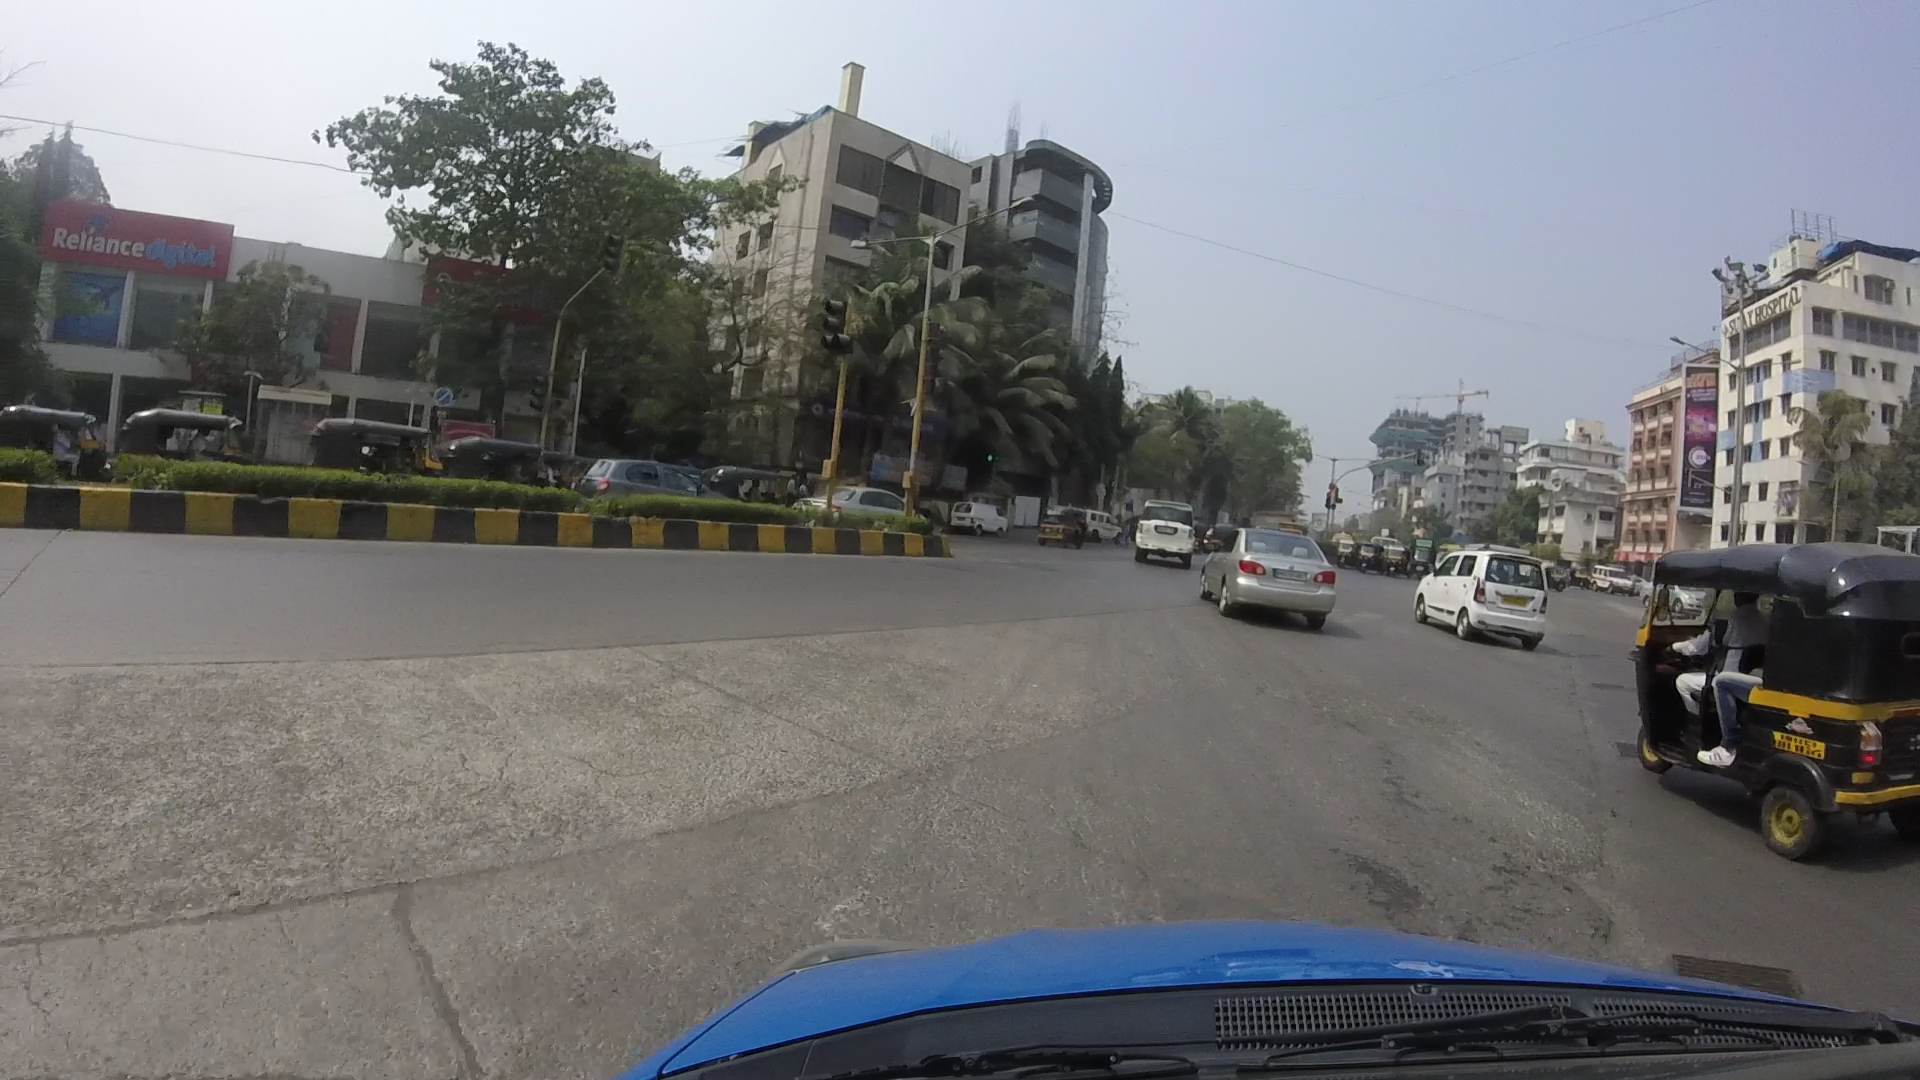car: (1400, 535, 1563, 655), (1199, 517, 1338, 632), (798, 465, 930, 531), (578, 448, 716, 510), (1122, 489, 1211, 572), (949, 496, 1014, 541)
rickshaw: (1615, 538, 1920, 855), (291, 392, 444, 497), (4, 397, 115, 500), (124, 397, 255, 484), (442, 429, 542, 481), (709, 456, 787, 501)
